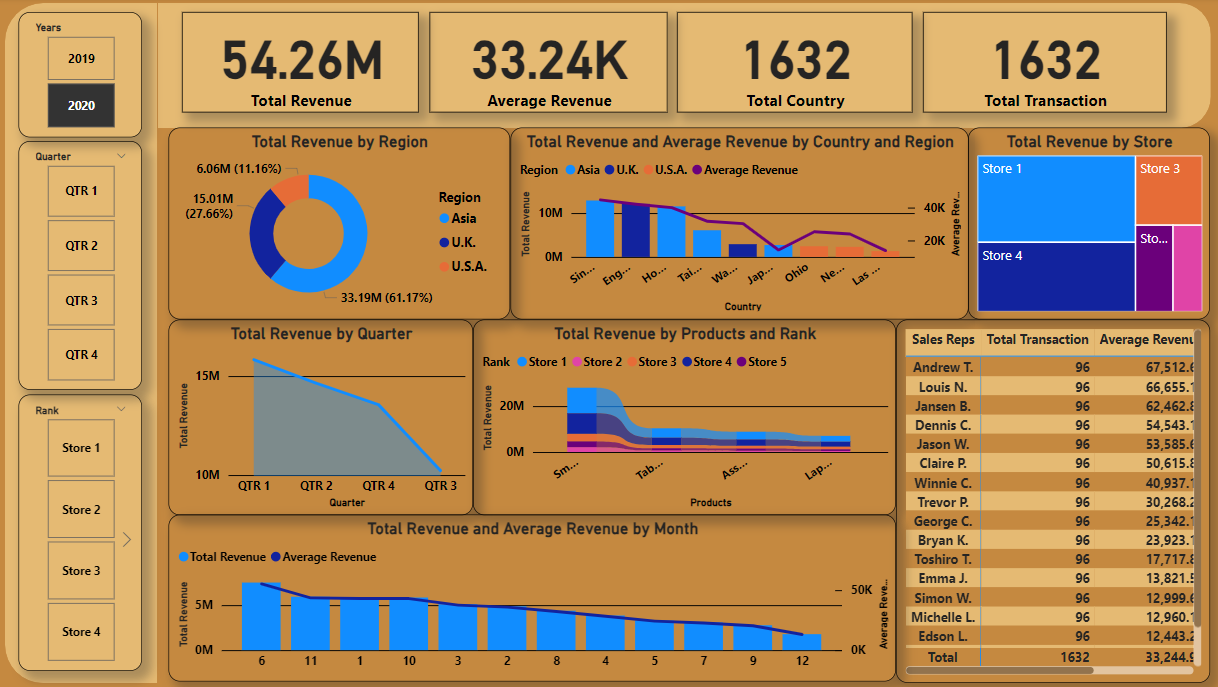

Layout of this report page (visuals, bound fields, positions):
{"tool":"powerbi","page":{"name":"Page 1","canvas":[1280,720],"ordinal":0},"visuals":[{"type":"shape","box":[12.8,5.7,158.7,708.7],"z":0},{"type":"shape","box":[171.5,5.7,1097,130.4],"z":1000},{"type":"card","fields":{"Values":["Measures (2).Total Revenue"]},"box":[197,15.6,246.6,104.9],"z":2000},{"type":"card","fields":{"Values":["Measures (2).Average Revenue"]},"box":[454.5,15.6,248,104.9],"z":3000},{"type":"card","fields":{"Values":["Measures (2).Total Country"]},"box":[713.4,15.6,245.2,104.9],"z":4000},{"type":"card","fields":{"Values":["Measures (2).Total Transaction"]},"box":[969.4,15.6,253.7,104.9],"z":5000},{"type":"donutChart","fields":{"Y":["Measures (2).Total Revenue"],"Category":["Sheet1.Region"]},"box":[182.8,136.1,355.7,199.8],"z":6000},{"type":"lineStackedColumnComboChart","fields":{"Category":["Sheet1.Country"],"Y":["Measures (2).Total Revenue"],"Y2":["Measures (2).Average Revenue"],"Series":["Sheet1.Region"]},"box":[538.6,136.1,477.6,199.8],"z":7000},{"type":"treemap","title":"Total Revenue by Store","fields":{"Values":["Measures (2).Total Revenue"],"Group":["Sheet1.Rank"]},"box":[1016.2,136.1,252.3,199.8],"z":8000},{"type":"areaChart","fields":{"Y":["Measures (2).Total Revenue"],"Category":["Sheet1.Quarter"]},"box":[182.8,335.9,317.5,204.1],"z":9000},{"type":"ribbonChart","fields":{"Category":["Sheet1.Products"],"Y":["Measures (2).Total Revenue"],"Series":["Sheet1.Rank"]},"box":[500.3,335.9,440.8,204.1],"z":10000},{"type":"pivotTable","fields":{"Rows":["Sheet1.Sales Reps"],"Values":["Measures (2).Total Transaction","Measures (2).Average Revenue","Measures (2).Total Revenue"]},"box":[941.1,335.9,327.4,378.4],"z":10001},{"type":"lineStackedColumnComboChart","fields":{"Y":["Measures (2).Total Revenue"],"Y2":["Measures (2).Average Revenue"],"Category":["Sheet1.Month"]},"box":[182.8,540,758.3,174.3],"z":10002},{"type":"slicer","fields":{"Values":["Sheet1.Years"]},"box":[26.9,15.6,129,130.4],"z":10003},{"type":"slicer","fields":{"Values":["Sheet1.Quarter"]},"box":[26.9,150.2,129,259.4],"z":10004},{"type":"slicer","fields":{"Values":["Sheet1.Rank"]},"box":[26.9,413.9,129,287.7],"z":10005}]}

Visuals, with their boxes in screenshot pixels (x1, y1, x2, y2), scaled from the page's 1280x720 canvas onto the 1218x687 screenshot:
shape: 12, 5, 163, 682
shape: 163, 5, 1207, 130
card - Measures (2).Total Revenue: 187, 15, 422, 115
card - Measures (2).Average Revenue: 432, 15, 668, 115
card - Measures (2).Total Country: 679, 15, 912, 115
card - Measures (2).Total Transaction: 922, 15, 1164, 115
donutChart - Measures (2).Total Revenue x Sheet1.Region: 174, 130, 512, 321
lineStackedColumnComboChart - Sheet1.Country x Measures (2).Total Revenue: 513, 130, 967, 321
"Total Revenue by Store" treemap: 967, 130, 1207, 321
areaChart - Measures (2).Total Revenue x Sheet1.Quarter: 174, 321, 476, 515
ribbonChart - Sheet1.Products x Measures (2).Total Revenue: 476, 321, 896, 515
pivotTable - Sheet1.Sales Reps x Measures (2).Total Transaction: 896, 321, 1207, 682
lineStackedColumnComboChart - Measures (2).Total Revenue x Measures (2).Average Revenue: 174, 515, 896, 682
slicer - Sheet1.Years: 26, 15, 148, 139
slicer - Sheet1.Quarter: 26, 143, 148, 391
slicer - Sheet1.Rank: 26, 395, 148, 669
